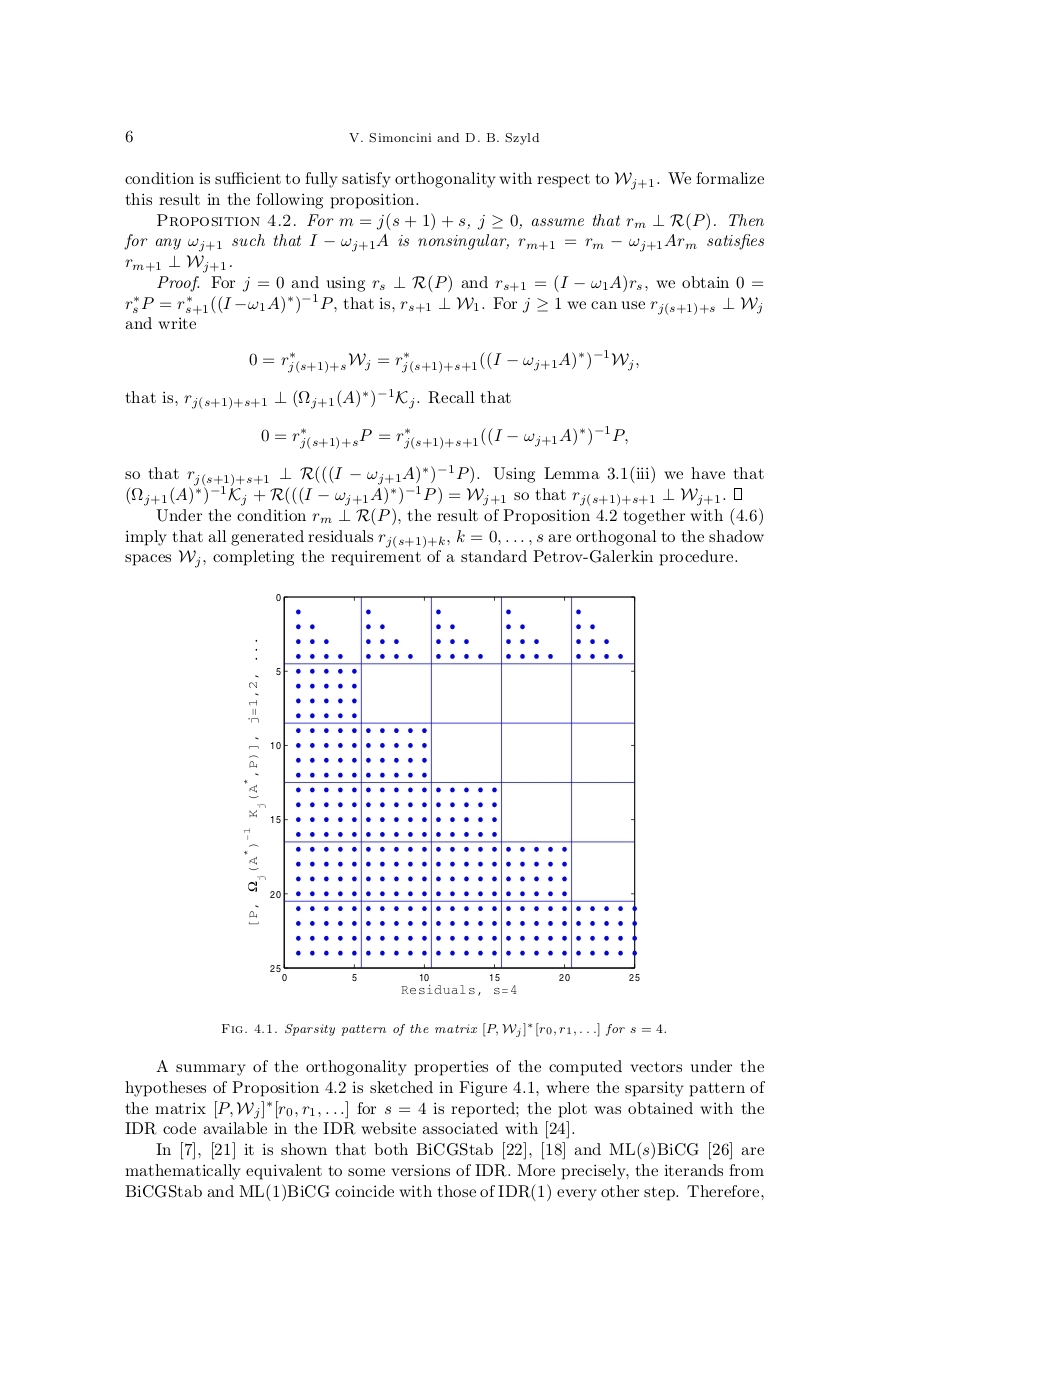figure: (243, 594, 639, 995)
formula: (249, 349, 637, 373), (261, 425, 627, 449)
